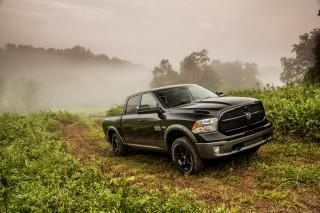ram: (241, 110, 256, 123)
